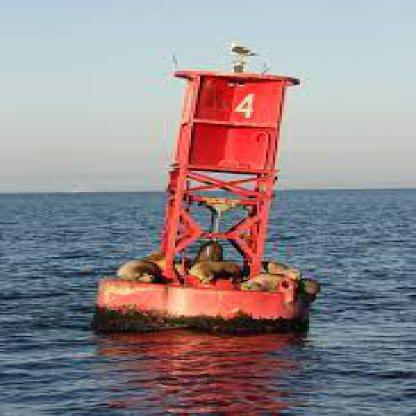buoy: (82, 38, 327, 339)
